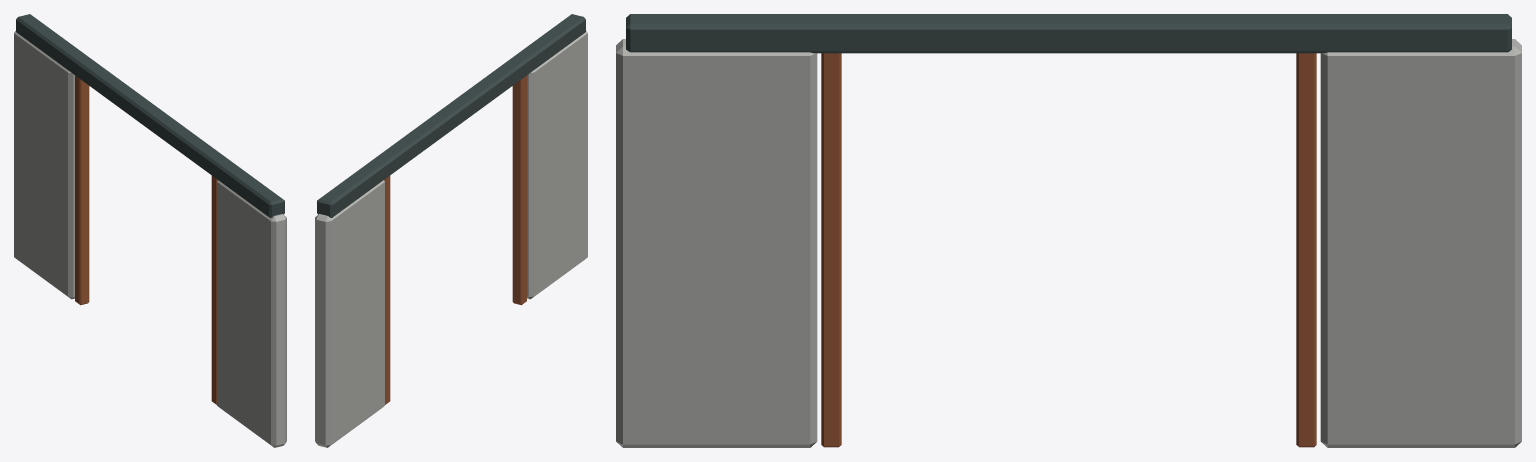
File: Bulkhead_Open.glb
3 renders of one model, left to right at view 1: azimuth 30°, elevation 25°; view 2: azimuth 150°, elevation 25°; view 3: azimuth 270°, elevation 25°, orthographic. The views are drawn at different scales.
Visible parts, largest first — view 1: Bulkhead_Open; view 2: Bulkhead_Open; view 3: Bulkhead_Open.
Boxes of the visible parts, bbox=[...] form: Bulkhead_Open: bbox=[14, 14, 286, 447]; Bulkhead_Open: bbox=[315, 14, 587, 447]; Bulkhead_Open: bbox=[616, 14, 1521, 447].
Size of the model in its own units: 0.16 by 2.33 by 4.5.
